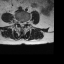CCS_normal: (21, 20, 23, 27)
LFS_normal: (25, 19, 27, 25)
LLS_normal: (23, 20, 25, 27)
RFS_normal: (17, 19, 19, 25)
RLS_normal: (19, 20, 21, 27)
